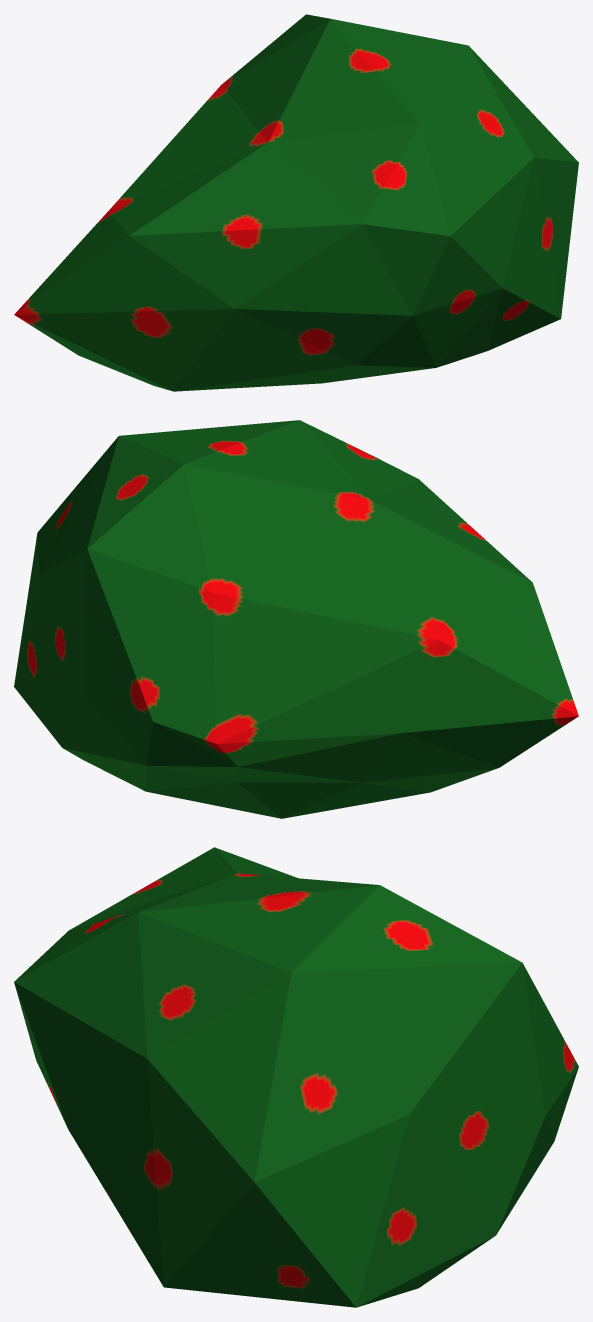
Rendered from cali.fbx.
3 views of the same model, one above another, from view 1: azimuth 30°, elevation 25°; view 2: azimuth 150°, elevation 25°; view 3: azimuth 270°, elevation 25° (orthographic). The views are drawn at different scales.
Visible parts, largest first — view 1: Icosphere; view 2: Icosphere; view 3: Icosphere.
Part boxes in pixels (x1,y1,x2,y2): Icosphere: (14,14,578,391); Icosphere: (14,420,578,818); Icosphere: (14,847,578,1307).
Bounding box in the file's own units: 2.1 × 1.14 × 1.57.
1 material, 1 textured.
